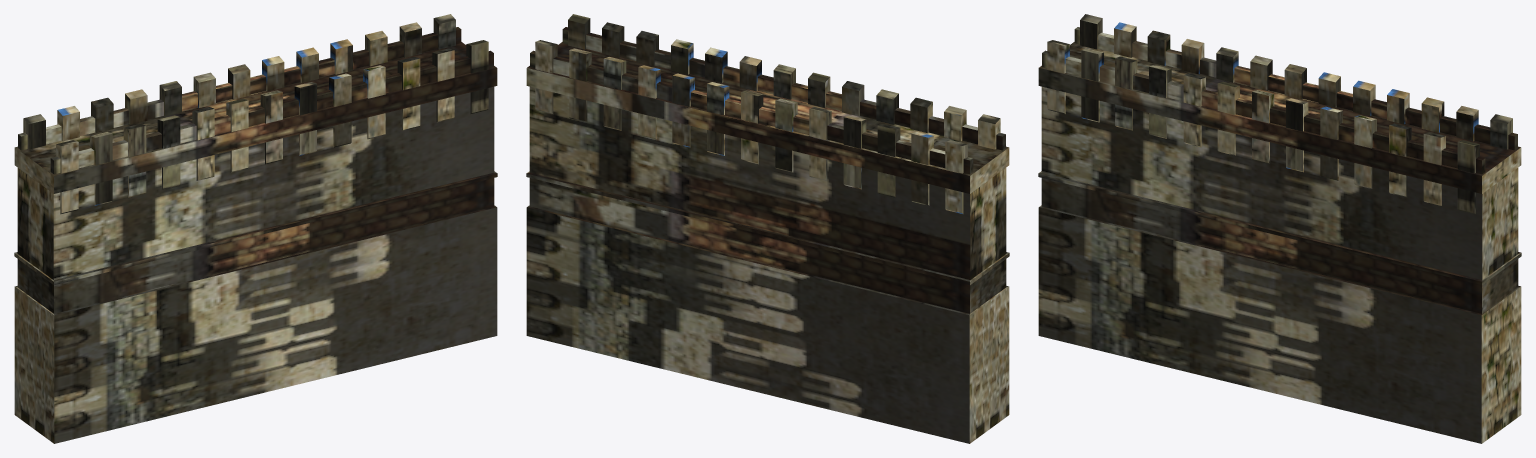
File: wall.glb
3 views of the same model, side by side, from view 1: azimuth 30°, elevation 25°; view 2: azimuth 150°, elevation 25°; view 3: azimuth 330°, elevation 25° (orthographic).
Parts seen in each view (by area): view 1: wall; view 2: wall; view 3: wall.
Part boxes in pixels (x1,y1,x2,y2): wall: [14, 14, 497, 443]; wall: [526, 14, 1009, 443]; wall: [1038, 14, 1521, 443].
Size of the model in its own units: 2 by 1.27 by 0.3092.
1 material, 1 textured.
